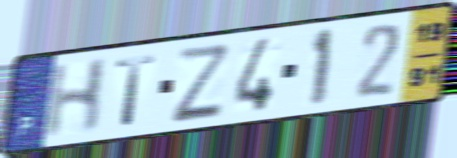1: (307, 25, 334, 110)
2: (352, 21, 402, 102)
4: (232, 35, 277, 115)
H: (41, 55, 112, 142)
T: (113, 52, 159, 129)
Z: (170, 41, 230, 126)
